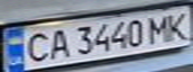0: (124, 16, 148, 47)
3: (69, 24, 97, 56)
4: (90, 20, 115, 53), (109, 18, 130, 51)
A: (45, 26, 72, 61)
C: (18, 29, 54, 64)
K: (163, 8, 193, 42)
M: (145, 12, 175, 44)
